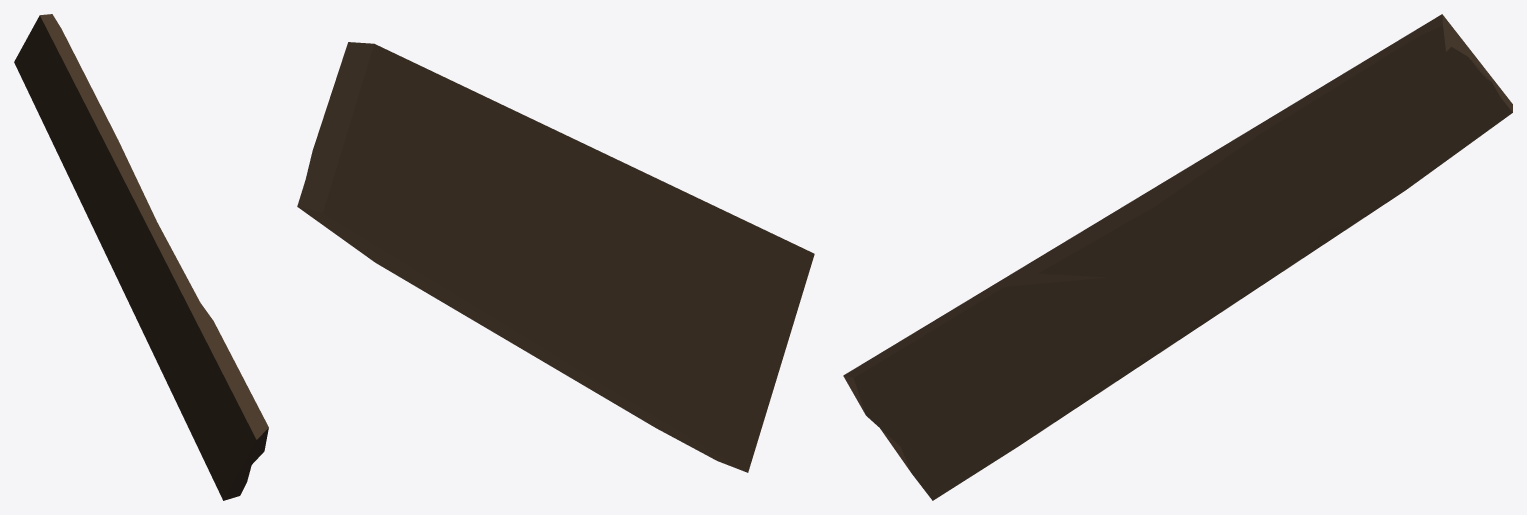
File: WindowPlank.fbx
3 views of the same model, side by side, from view 1: azimuth 30°, elevation 25°; view 2: azimuth 150°, elevation 25°; view 3: azimuth 270°, elevation 25° (orthographic). The views are drawn at different scales.
Parts seen in each view (by area): view 1: Plank.002; view 2: Plank.002; view 3: Plank.002.
Boxes of the visible parts, left/top/right/bottom form: Plank.002: left=14, top=14, right=268, bottom=500; Plank.002: left=297, top=42, right=814, bottom=472; Plank.002: left=843, top=14, right=1512, bottom=500.
Size of the model in its own units: 2.24 by 46.44 by 58.79.
